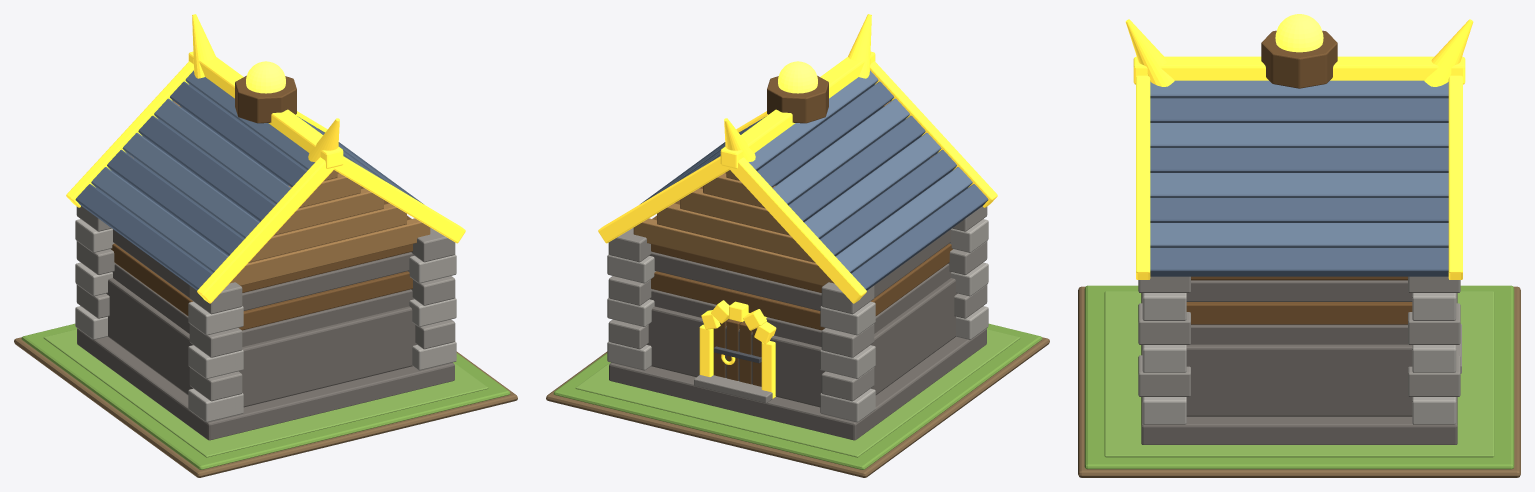
The model's file is builder_hall_lv6.glb.
3 renders of one model, left to right at view 1: azimuth 30°, elevation 25°; view 2: azimuth 150°, elevation 25°; view 3: azimuth 270°, elevation 25°, orthographic. The views are drawn at different scales.
Parts seen in each view (by area): view 1: BH_SlateWainscot, BH_Foundation, Base_Inner, Base_Grass, WallPlank_4, Base_Dirt, WallPlank_3, WallPlank_5, Gable_-1_0, RoofSlope_-1_7, RoofSlope_-1_2, RoofSlope_-1_6 (+34 smaller); view 2: BH_SlateWainscot, BH_Foundation, Base_Inner, Base_Grass, WallPlank_4, Base_Dirt, WallPlank_5, Gable_1_0, RoofSlope_-1_7, RoofSlope_-1_2, RoofSlope_-1_6, RoofSlope_-1_3 (+40 smaller); view 3: BH_SlateWainscot, Base_Inner, Base_Grass, RoofSlope_1_7, BH_Foundation, RoofSlope_1_1, RoofSlope_1_2, RoofSlope_1_3, RoofSlope_1_4, RoofSlope_1_5, RoofSlope_1_6, Base_Dirt (+24 smaller).
Boxes of the visible parts, x1,y1,x2,y2 form: BH_SlateWainscot: (106,278,416,407); BH_Foundation: (77,328,454,440); Base_Inner: (43,329,488,457); Base_Grass: (21,323,510,469); WallPlank_4: (111,243,412,330); Base_Dirt: (14,337,517,477); WallPlank_3: (112,264,414,346); WallPlank_5: (113,229,414,310); Gable_-1_0: (229,218,430,285); RoofSlope_-1_7: (75,184,212,290); RoofSlope_-1_2: (154,98,291,204); RoofSlope_-1_6: (91,167,228,273); BH_SlateWainscot: (647,278,957,407); BH_Foundation: (609,328,986,440); Base_Inner: (575,329,1020,457); Base_Grass: (553,323,1042,469); WallPlank_4: (651,243,952,330); Base_Dirt: (546,337,1049,477); WallPlank_5: (649,229,950,310); Gable_1_0: (633,218,834,285); RoofSlope_-1_7: (851,184,988,290); RoofSlope_-1_2: (772,98,909,204); RoofSlope_-1_6: (835,167,972,273); RoofSlope_-1_3: (788,115,925,221); BH_SlateWainscot: (1186,344,1412,416); Base_Inner: (1104,291,1494,457); Base_Grass: (1084,285,1514,469); RoofSlope_1_7: (1150,248,1448,276); BH_Foundation: (1141,293,1457,444); RoofSlope_1_1: (1150,98,1448,122); RoofSlope_1_2: (1150,123,1448,147); RoofSlope_1_3: (1150,148,1448,172); RoofSlope_1_4: (1150,173,1448,197); RoofSlope_1_5: (1150,198,1448,222); RoofSlope_1_6: (1150,223,1448,247); Base_Dirt: (1078,286,1520,477).
Bounding box in the file's own units: 3.68 × 3.39 × 3.68.
